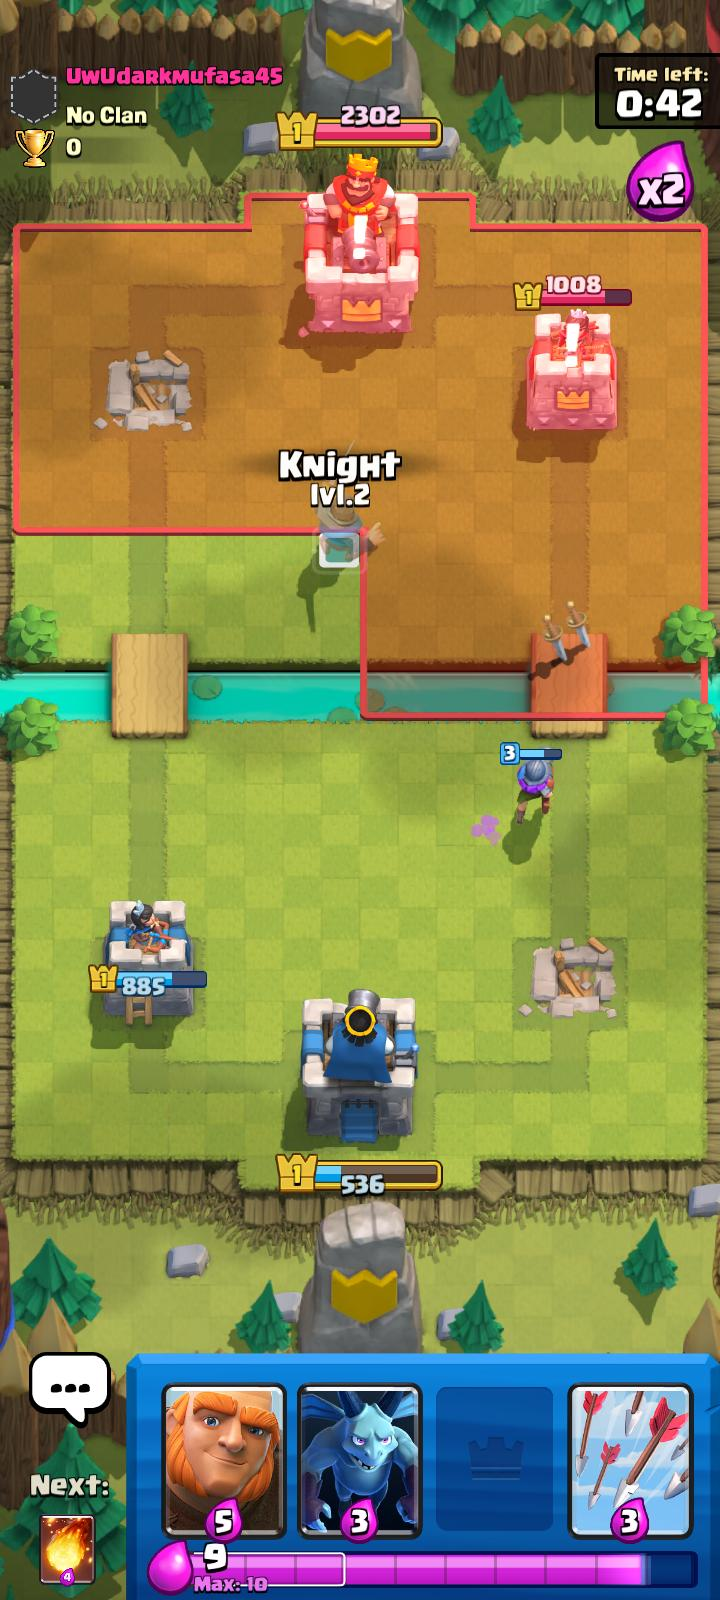mousquetaire: (507, 743, 564, 826)
